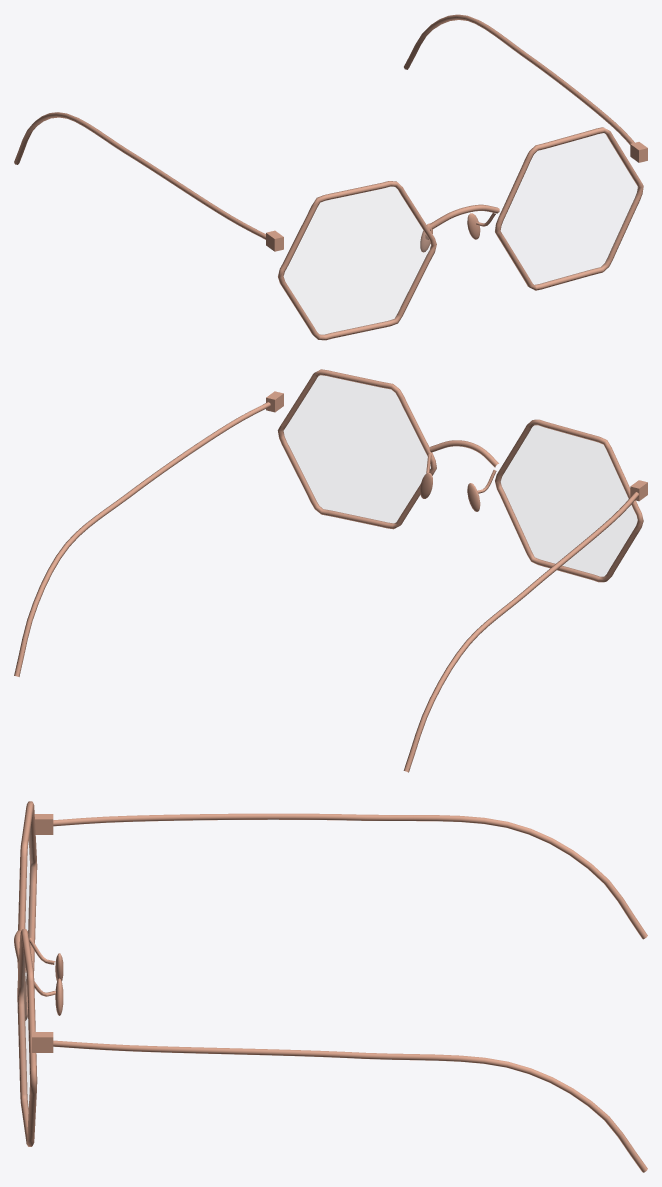
Rendered from BM-W05_Quill_Rose_gold.glb.
3 renders of one model, top to bottom at view 1: azimuth 30°, elevation 25°; view 2: azimuth 150°, elevation 25°; view 3: azimuth 270°, elevation 25°, orthographic. The views are drawn at different scales.
Visible parts, largest first — view 1: Quill_Rose_gold_Lenses, Quill_Rose_gold_Metal; view 2: Quill_Rose_gold_Lenses, Quill_Rose_gold_Metal; view 3: Quill_Rose_gold_Metal, Quill_Rose_gold_Lenses.
Part boxes in pixels (x1,y1,x2,y2): Quill_Rose_gold_Lenses: [284, 134, 637, 334]; Quill_Rose_gold_Metal: [14, 14, 647, 340]; Quill_Rose_gold_Lenses: [283, 376, 636, 576]; Quill_Rose_gold_Metal: [14, 369, 647, 772]; Quill_Rose_gold_Metal: [14, 801, 647, 1172]; Quill_Rose_gold_Lenses: [22, 831, 32, 1118].
Size of the model in its own units: 0.1364 by 0.0466 by 0.1508.
